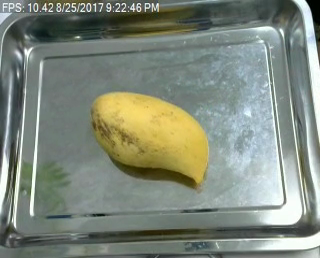Mango: (90, 90, 208, 184)
